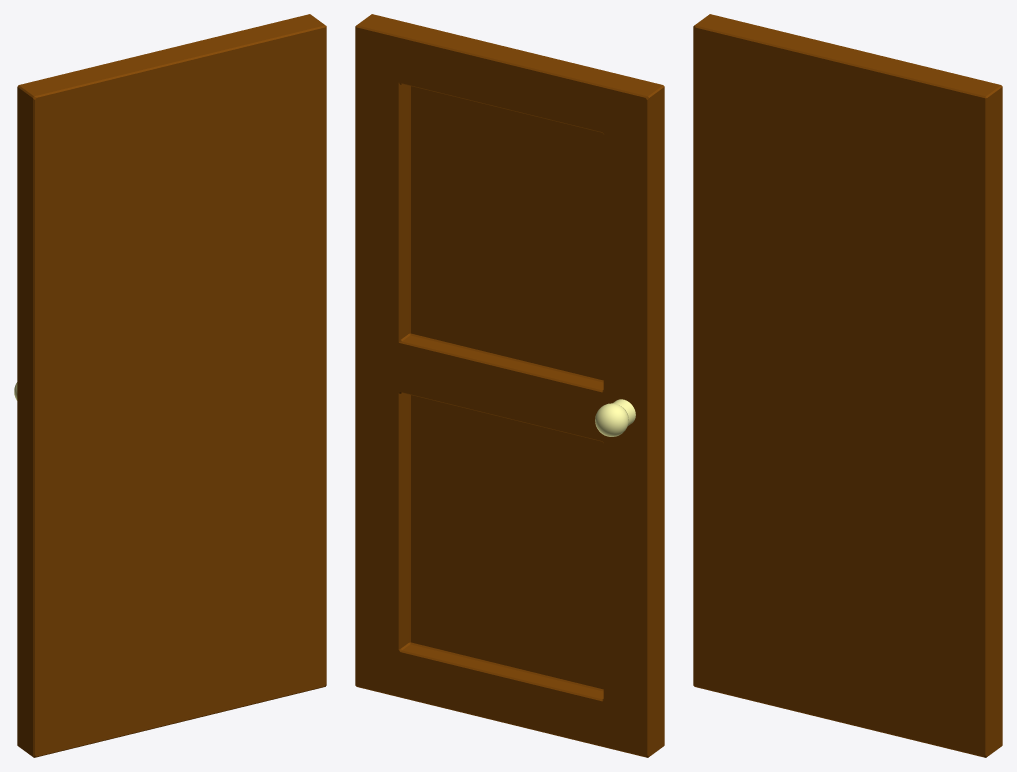
File: door.fbx
The picture shows the model from 3 angles, left to right: view 1: azimuth 30°, elevation 25°; view 2: azimuth 150°, elevation 25°; view 3: azimuth 330°, elevation 25°; orthographic projection.
Parts seen in each view (by area): view 1: Plane; view 2: Plane, Doorknob; view 3: Plane.
Part boxes in pixels (box(x1,y1,x2,y2)): Plane: box(17, 14, 326, 757); Plane: box(355, 14, 664, 757); Doorknob: box(595, 399, 635, 436); Plane: box(693, 14, 1002, 757).
Size of the model in its own units: 334 by 719 by 71.9.
